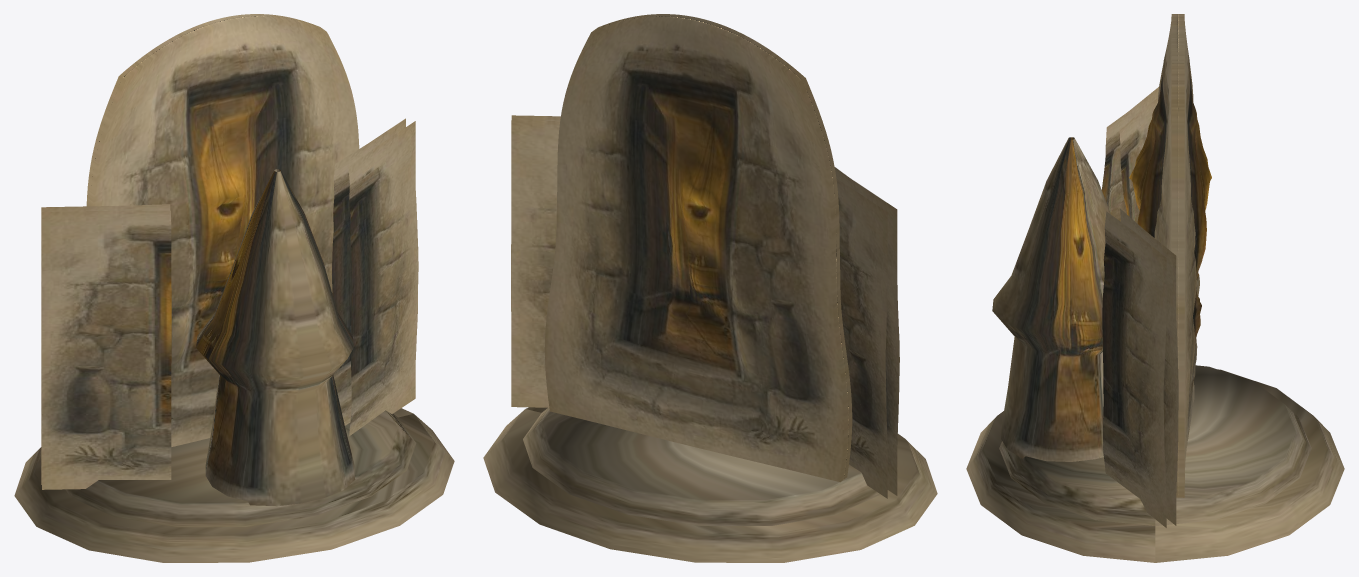
The model's file is psalms-1-26.glb.
3 views of the same model, side by side, from view 1: azimuth 30°, elevation 25°; view 2: azimuth 150°, elevation 25°; view 3: azimuth 270°, elevation 25° (orthographic). The views are drawn at different scales.
Visible parts, largest first — view 1: PaintingSculptureMonument; view 2: PaintingSculptureMonument; view 3: PaintingSculptureMonument.
Boxes of the visible parts, box(x1,y1,x2,y2) form: PaintingSculptureMonument: box(14, 14, 454, 562); PaintingSculptureMonument: box(483, 14, 937, 562); PaintingSculptureMonument: box(966, 14, 1344, 562).
Bounding box in the file's own units: 2.76 × 2.99 × 2.35.
1 material, 1 textured.
